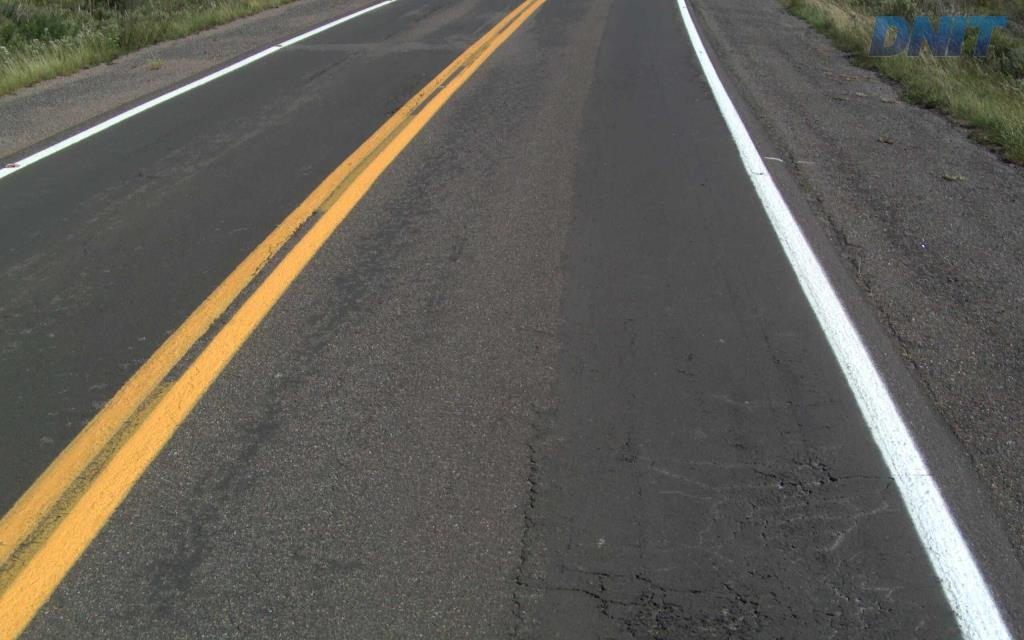crack: (571, 587, 773, 639)
